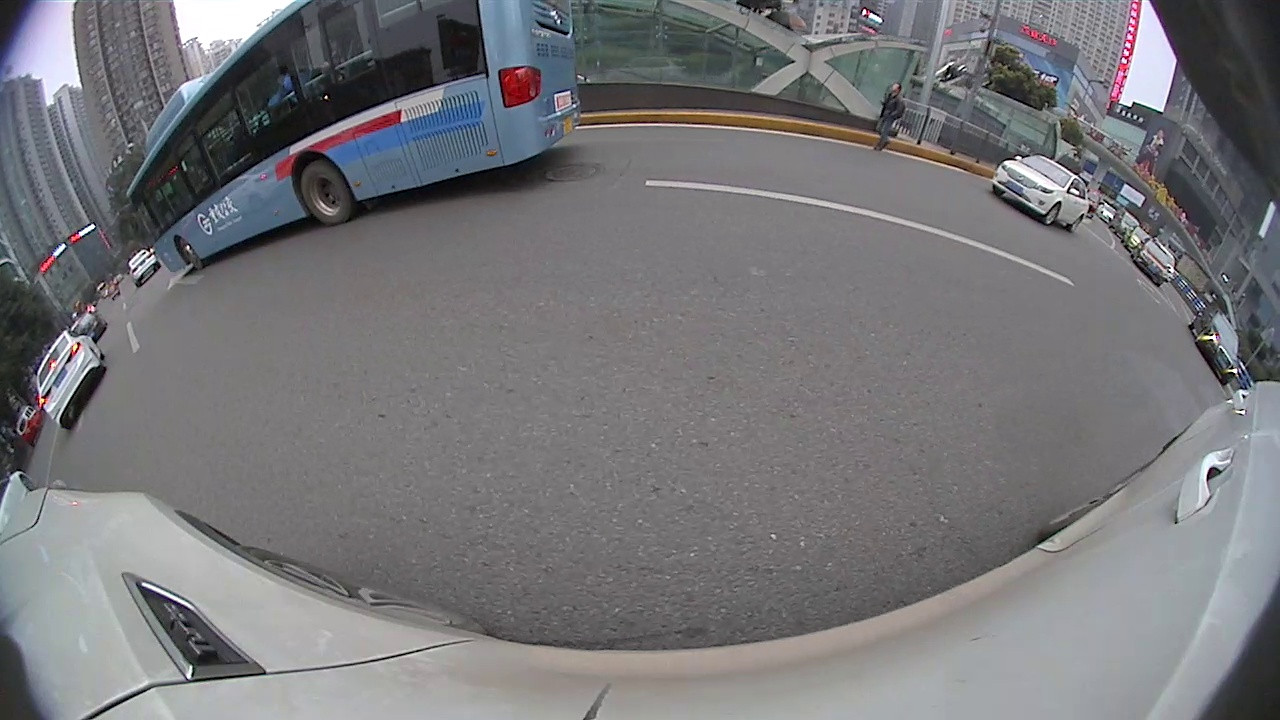bus: (124, 1, 581, 274)
car: (993, 153, 1090, 234), (34, 326, 107, 433), (1189, 305, 1242, 388), (1132, 237, 1176, 287), (0, 471, 32, 519), (65, 308, 107, 341), (128, 248, 160, 285), (1110, 209, 1141, 241), (1125, 225, 1153, 257)
front: (176, 237, 207, 275), (1040, 202, 1063, 226)
person: (883, 82, 903, 153)
rear: (297, 160, 356, 226)
